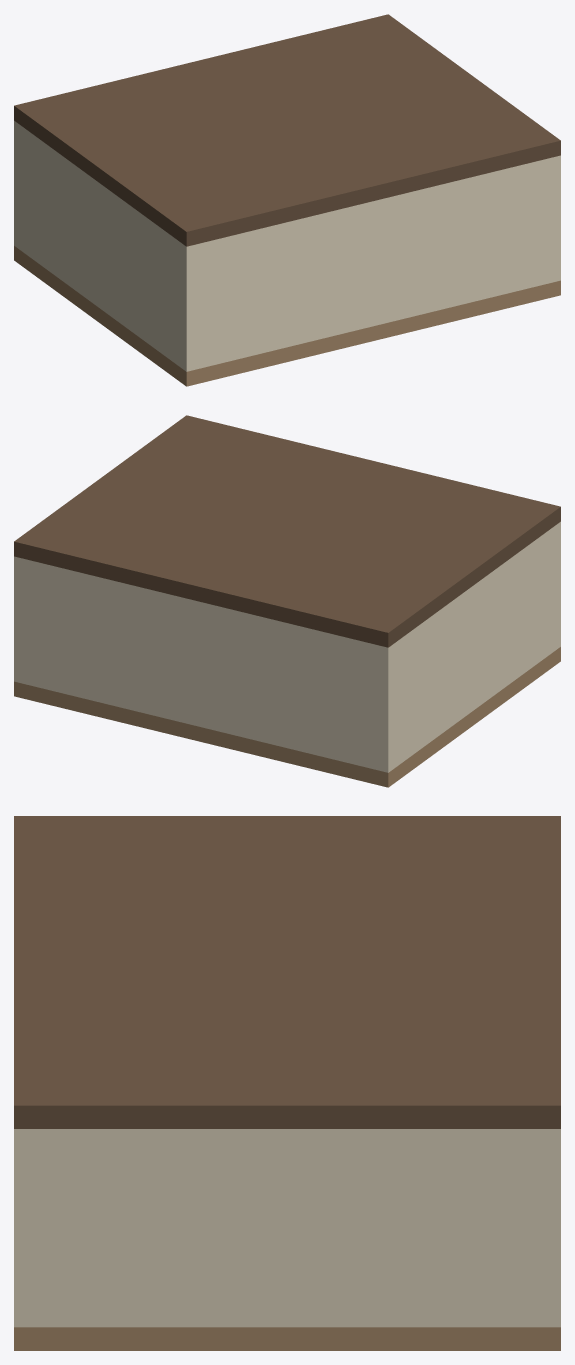
The model's file is taberna.glb.
The picture shows the model from 3 angles, top to bottom: view 1: azimuth 30°, elevation 25°; view 2: azimuth 150°, elevation 25°; view 3: azimuth 270°, elevation 25°; orthographic projection. The views are drawn at different scales.
Parts seen in each view (by area): view 1: Techo_interior, Pared_sur, Pared_oeste, Suelo, Pared_norte; view 2: Techo_interior, Pared_norte, Pared_oeste, Suelo, Pared_sur; view 3: Techo_interior, Pared_este, Suelo, Pared_norte, Pared_sur.
Part boxes in pixels (box(x1,y1,x2,y2)): Techo_interior: box(14, 14, 560, 246); Pared_sur: box(178, 155, 560, 371); Pared_oeste: box(22, 127, 178, 365); Suelo: box(14, 246, 560, 386); Pared_norte: box(14, 120, 22, 251); Techo_interior: box(14, 415, 560, 647); Pared_norte: box(14, 556, 396, 772); Pared_oeste: box(396, 528, 552, 766); Suelo: box(14, 647, 560, 787); Pared_sur: box(552, 521, 560, 652); Techo_interior: box(14, 816, 560, 1128); Pared_este: box(40, 1129, 534, 1327); Suelo: box(14, 1327, 560, 1350); Pared_norte: box(535, 1129, 560, 1327); Pared_sur: box(14, 1129, 39, 1327).
Size of the model in its own units: 11.9 by 4.7 by 9.5.
